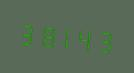eight: (37, 17, 55, 51)
four: (75, 20, 93, 55)
one: (56, 19, 74, 53)
three: (18, 15, 36, 50), (94, 22, 112, 56)
